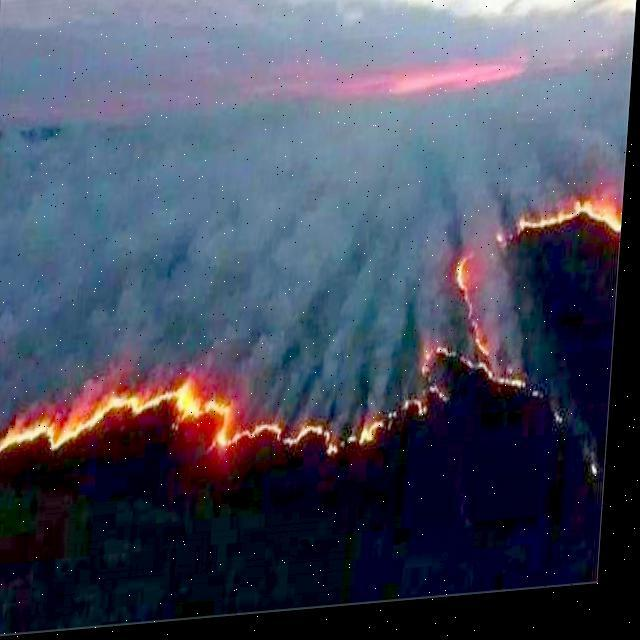Fire: (427, 202, 623, 406), (0, 375, 248, 464), (248, 407, 437, 462)
